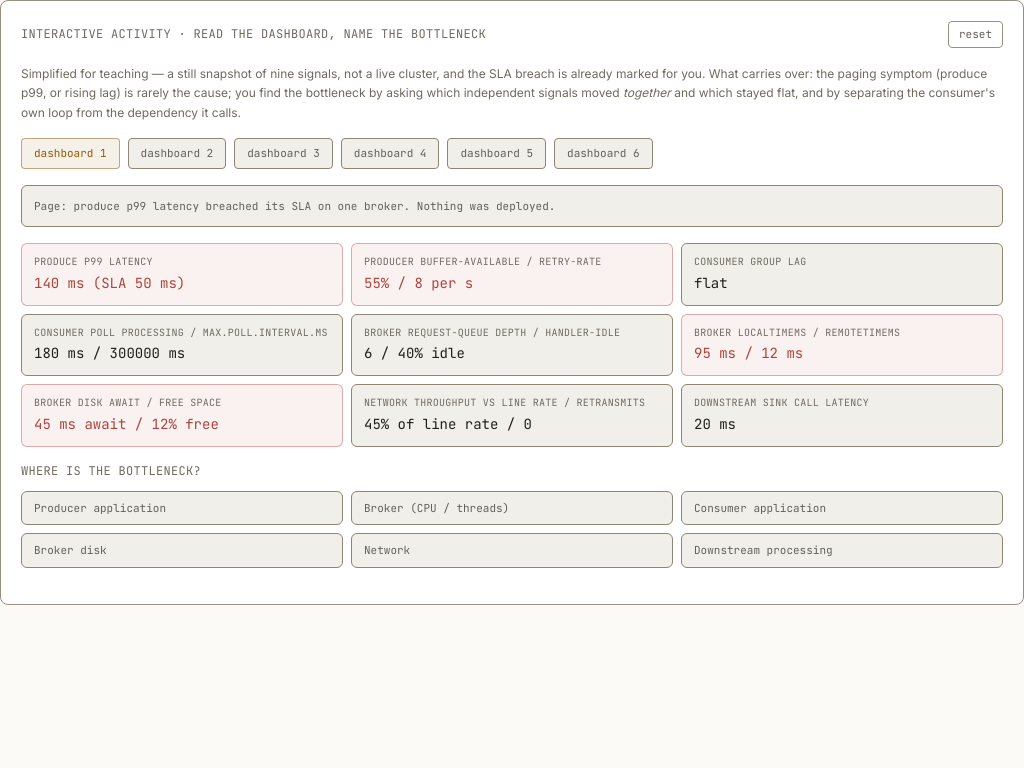
Test case: BottleneckDiagnosis › locks the choices after the first pick
What coordinates should you click on to do the following:
click the button "Network"
I would click on:
 (387, 550)
Its box is [351,533,673,568].
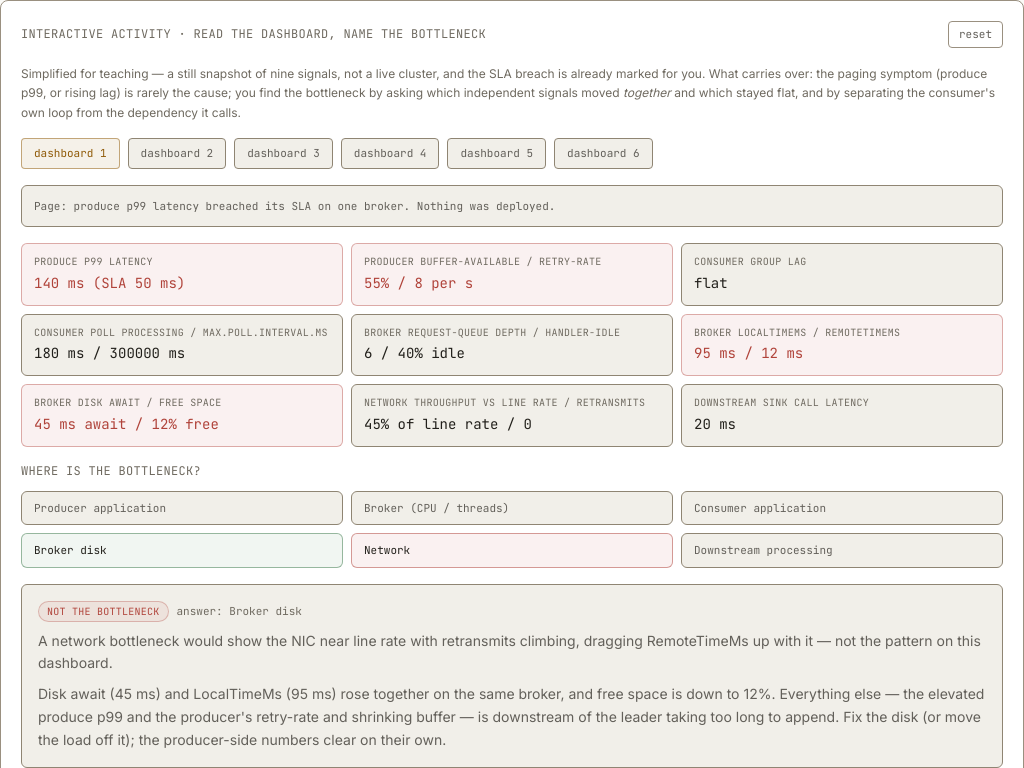
Result: the button "Broker disk" is disabled at [21,533,343,568]
